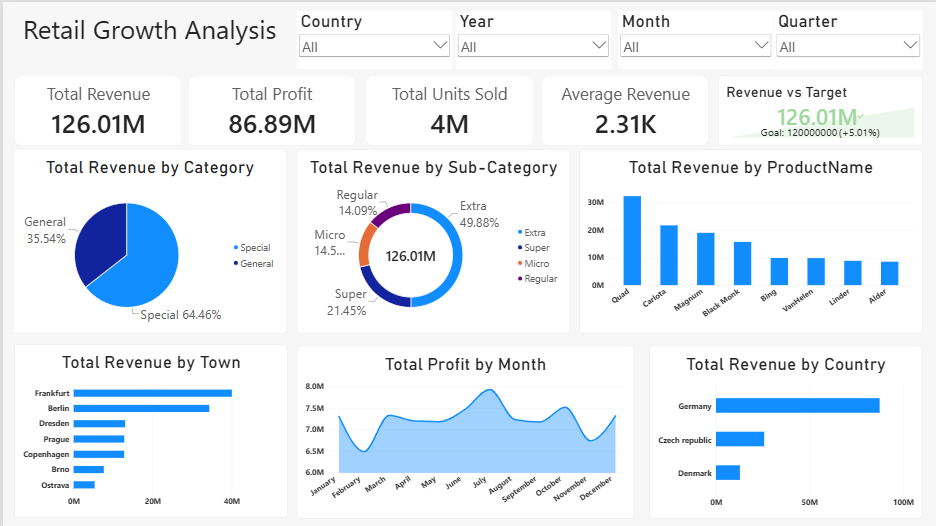

The dashboard page shown, as its layout file describes it:
{"tool":"powerbi","page":{"name":"Page 1","canvas":[1920,1080],"ordinal":0},"visuals":[{"type":"cardVisual","fields":{"Data":["Sales.Total Revenue"]},"box":[22,152,344,144],"z":0},{"type":"cardVisual","fields":{"Data":["Sales.Total Unit Sold"]},"box":[744,152,344,144],"z":1000},{"type":"cardVisual","fields":{"Data":["Sum(Sales.Gross Profit)"]},"box":[380,152,344,144],"z":2000},{"type":"pieChart","title":"Total Revenue by Category","fields":{"Category":["Categories.Category"],"Y":["Sales.Total Revenue"]},"box":[21.7,302.2,560.9,378.3],"z":3000},{"type":"donutChart","title":"Total Revenue by Sub-Category","fields":{"Category":["SubCategory.SubCategory Name"],"Y":["Sales.Total Revenue"]},"box":[602.2,302.2,560.9,378.3],"z":4000},{"type":"clusteredColumnChart","fields":{"Category":["Product.ProductName"],"Y":["Sales.Total Revenue"]},"box":[1182,302,704,378],"z":5000},{"type":"stackedAreaChart","title":"Total Profit by Month","fields":{"Category":["Sales.Date.Variation.Date Hierarchy.Month"],"Y":["Sum(Sales.Gross Profit)"]},"box":[602,704,691.7,355.6],"z":6000},{"type":"clusteredBarChart","fields":{"Category":["Sales.Country"],"Y":["Sales.Total Revenue"]},"box":[1326,704,560,354],"z":7000},{"type":"slicer","fields":{"Values":["Sales.Date.Variation.Date Hierarchy.Month"]},"box":[1262,18,319.6,119.6],"z":8000},{"type":"slicer","fields":{"Values":["Sales.Date.Variation.Date Hierarchy.Year"]},"box":[928.3,17.4,319.6,119.6],"z":9000},{"type":"slicer","fields":{"Values":["Sales.Country"]},"box":[602,18,319.6,119.6],"z":10000},{"type":"textbox","box":[21.7,17.4,560.9,119.6],"z":11000},{"type":"barChart","fields":{"Category":["Geography.Town"],"Y":["Sales.Total Revenue"]},"box":[22,702,561.1,355.6],"z":12000},{"type":"kpi","title":"Revenue vs Target","fields":{"Goal":["Sales.Sales Target"],"Indicator":["Sales.Cumulative Revenue"],"TrendLine":["Sales.Date"]},"box":[1466,152,420,144],"z":12001},{"type":"cardVisual","fields":{"Data":["Avg(Sales.Revenue)"]},"box":[1104,152,342,144],"z":12002},{"type":"slicer","fields":{"Values":["Sales.Date.Variation.Date Hierarchy.Quarter"]},"box":[1582,18,304,120],"z":12003}]}

Visuals, with their boxes in screenshot pixels (x1, y1, x2, y2), scaled from the page's 1920x1080 canvas onto the 936x526 screenshot:
cardVisual - Sales.Total Revenue: [x1=11, y1=74, x2=178, y2=144]
cardVisual - Sales.Total Unit Sold: [x1=363, y1=74, x2=530, y2=144]
cardVisual - Sum(Sales.Gross Profit): [x1=185, y1=74, x2=353, y2=144]
"Total Revenue by Category" pieChart: [x1=11, y1=147, x2=284, y2=331]
"Total Revenue by Sub-Category" donutChart: [x1=294, y1=147, x2=567, y2=331]
clusteredColumnChart - Product.ProductName x Sales.Total Revenue: [x1=576, y1=147, x2=919, y2=331]
"Total Profit by Month" stackedAreaChart: [x1=293, y1=343, x2=631, y2=516]
clusteredBarChart - Sales.Country x Sales.Total Revenue: [x1=646, y1=343, x2=919, y2=515]
slicer - Sales.Date.Variation.Date Hierarchy.Month: [x1=615, y1=9, x2=771, y2=67]
slicer - Sales.Date.Variation.Date Hierarchy.Year: [x1=453, y1=8, x2=608, y2=67]
slicer - Sales.Country: [x1=293, y1=9, x2=449, y2=67]
textbox: [x1=11, y1=8, x2=284, y2=67]
barChart - Geography.Town x Sales.Total Revenue: [x1=11, y1=342, x2=284, y2=515]
"Revenue vs Target" kpi: [x1=715, y1=74, x2=919, y2=144]
cardVisual - Avg(Sales.Revenue): [x1=538, y1=74, x2=705, y2=144]
slicer - Sales.Date.Variation.Date Hierarchy.Quarter: [x1=771, y1=9, x2=919, y2=67]
